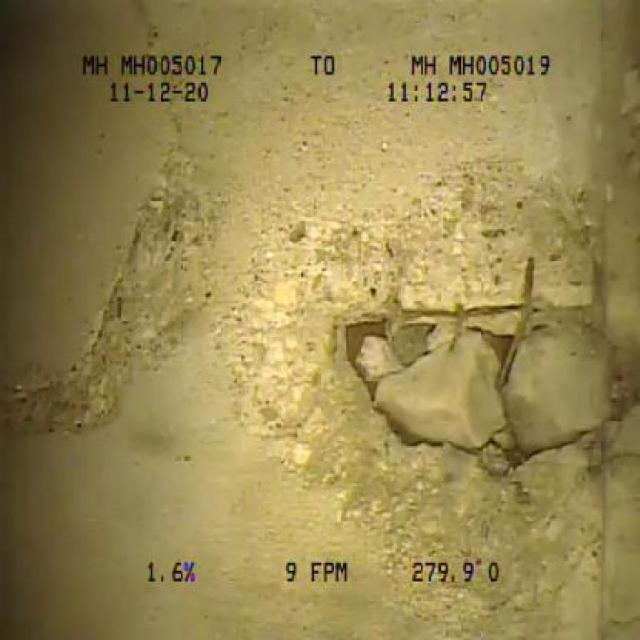Hole: (267, 220, 640, 603)
